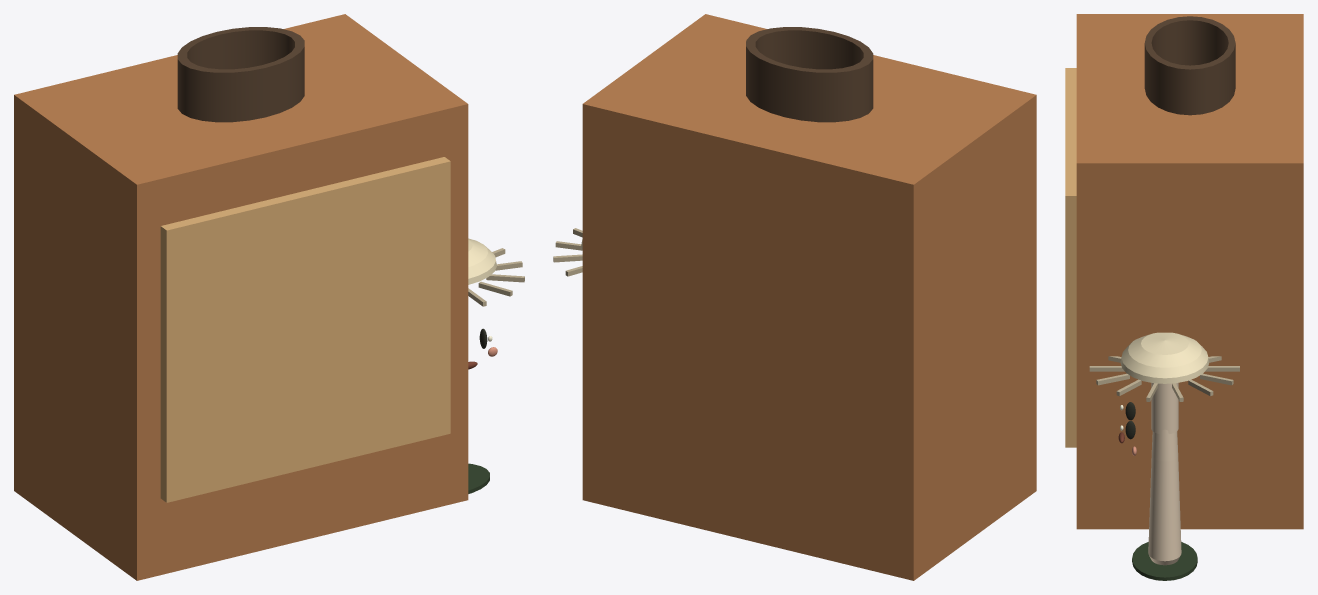
The model's file is courier.obj.
3 views of the same model, side by side, from view 1: azimuth 30°, elevation 25°; view 2: azimuth 150°, elevation 25°; view 3: azimuth 270°, elevation 25° (orthographic). The views are drawn at different scales.
Size of the model in its own units: 1.79 by 1.9 by 0.945.
